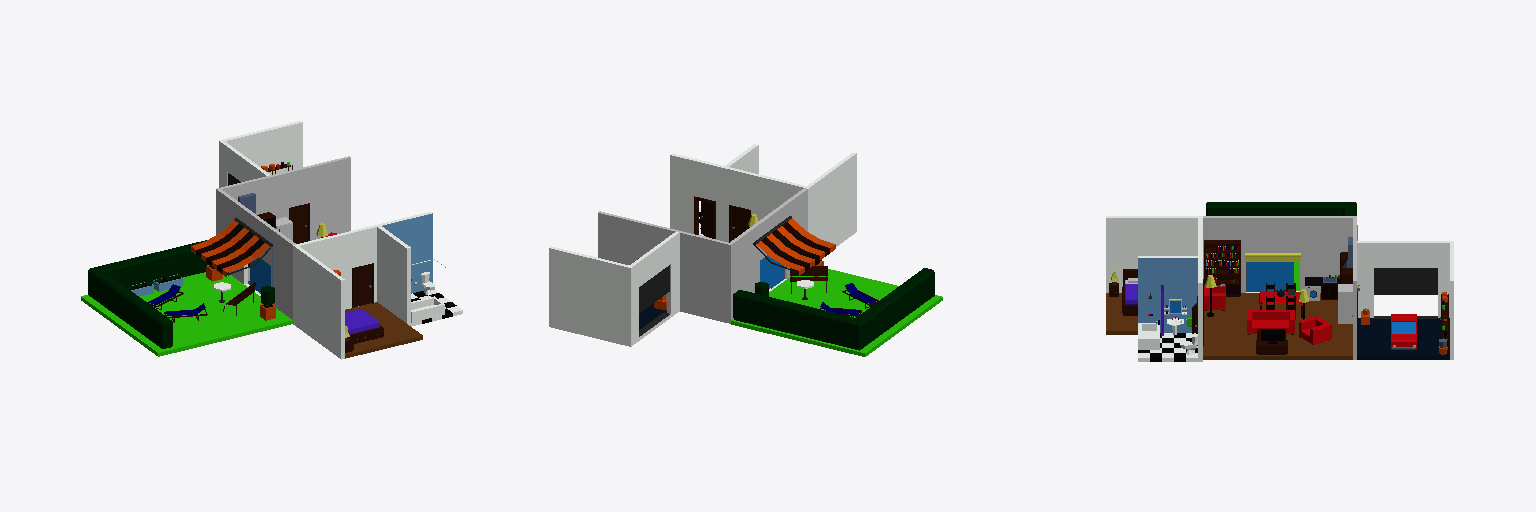
File: House.obj
3 renders of one model, left to right at view 1: azimuth 30°, elevation 25°; view 2: azimuth 150°, elevation 25°; view 3: azimuth 270°, elevation 25°, orthographic.
Visible parts, largest first — view 1: jardi, bedroom, livingroom, WC, garaje, doorbedroom, doorgarage; view 2: jardi, garaje, livingroom, bedroom, WC, doorext; view 3: livingroom, garaje, WC, bedroom, jardi, doorext, doorgarden01, doorgarden02.
Part boxes in pixels (bbox=[...]): jardi: bbox=[81, 218, 292, 356]; bedroom: bbox=[293, 225, 422, 359]; livingroom: bbox=[216, 156, 350, 319]; WC: bbox=[375, 212, 462, 326]; garaje: bbox=[219, 121, 302, 187]; doorbedroom: bbox=[355, 267, 371, 306]; doorgarage: bbox=[291, 207, 307, 243]; jardi: bbox=[731, 216, 942, 356]; garaje: bbox=[549, 232, 679, 346]; livingroom: bbox=[598, 188, 807, 323]; bedroom: bbox=[726, 152, 856, 246]; WC: bbox=[670, 144, 758, 241]; doorext: bbox=[639, 265, 669, 313]; livingroom: bbox=[1203, 216, 1357, 359]; garaje: bbox=[1357, 241, 1453, 359]; WC: bbox=[1138, 256, 1203, 361]; bedroom: bbox=[1106, 216, 1203, 334]; jardi: bbox=[1206, 202, 1357, 290]; doorext: bbox=[1374, 268, 1437, 294]; doorgarden01: bbox=[1267, 262, 1293, 291]; doorgarden02: bbox=[1246, 262, 1266, 291].
Bounding box in the file's own units: 21.93 × 6.07 × 24.28.